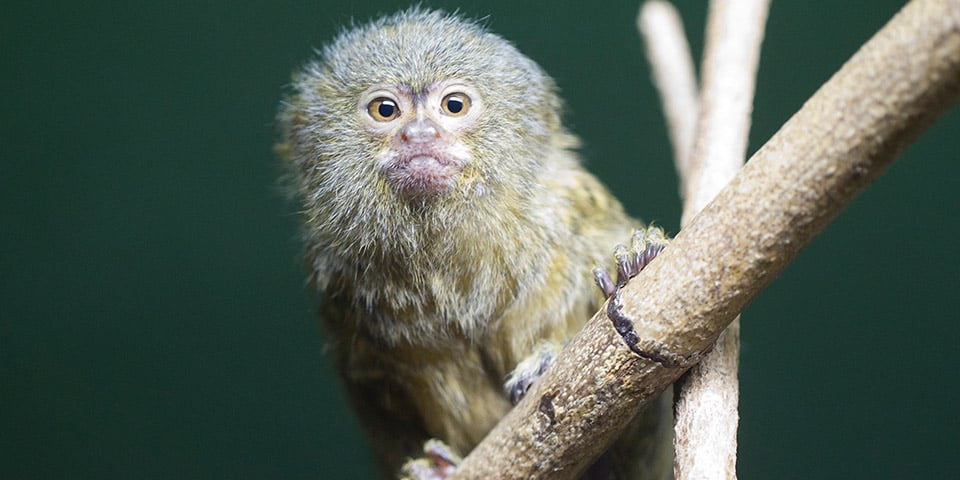PygmyMarmoset: (281, 9, 631, 338)
